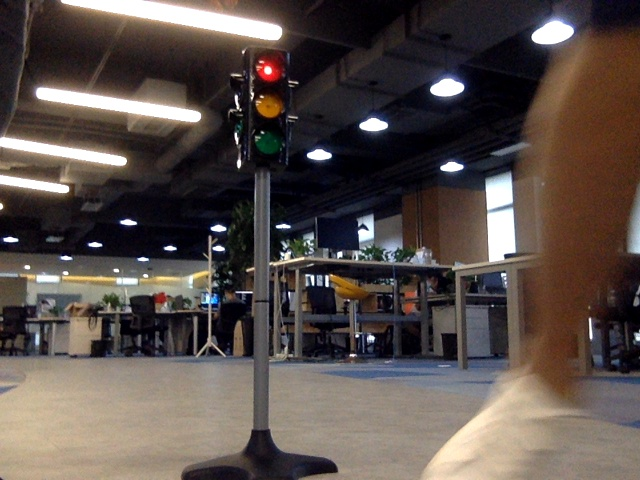red: (249, 53, 285, 159)
